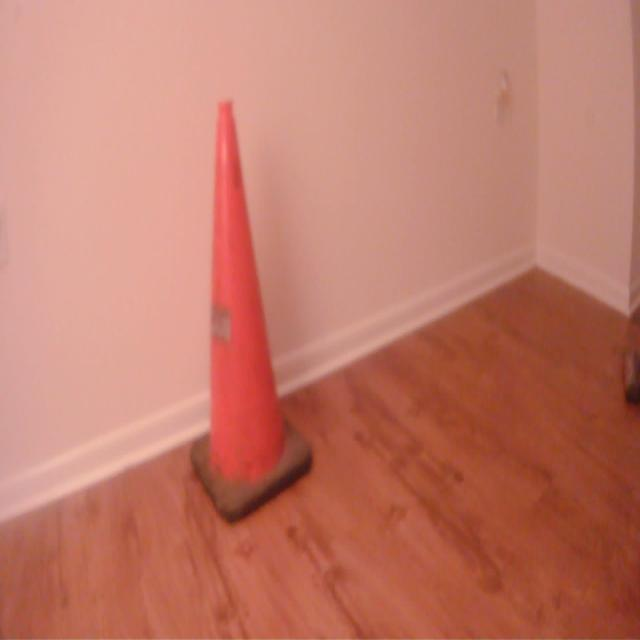traffic cone: (185, 95, 319, 533)
